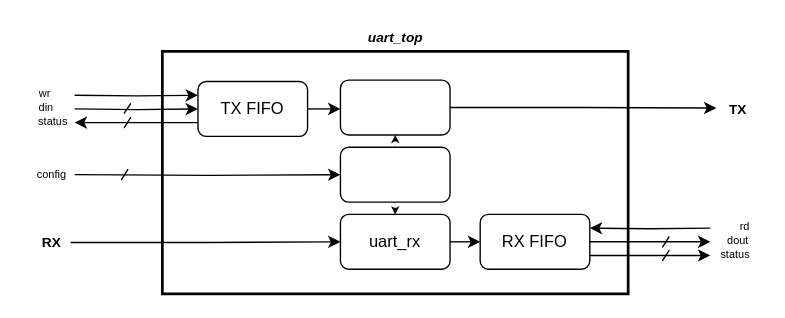
The diagram is 785 pixels wide and 318 high, and some of its shapes have lost their labels. Here are the shapes that lost their labels. From the top down, the centre of each, then its label:
At point 394,107: "uart_tx".
At point 394,174: "Baud Generator".
